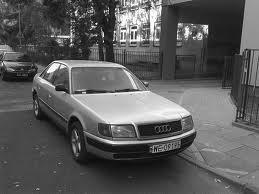car: (32, 59, 200, 165)
